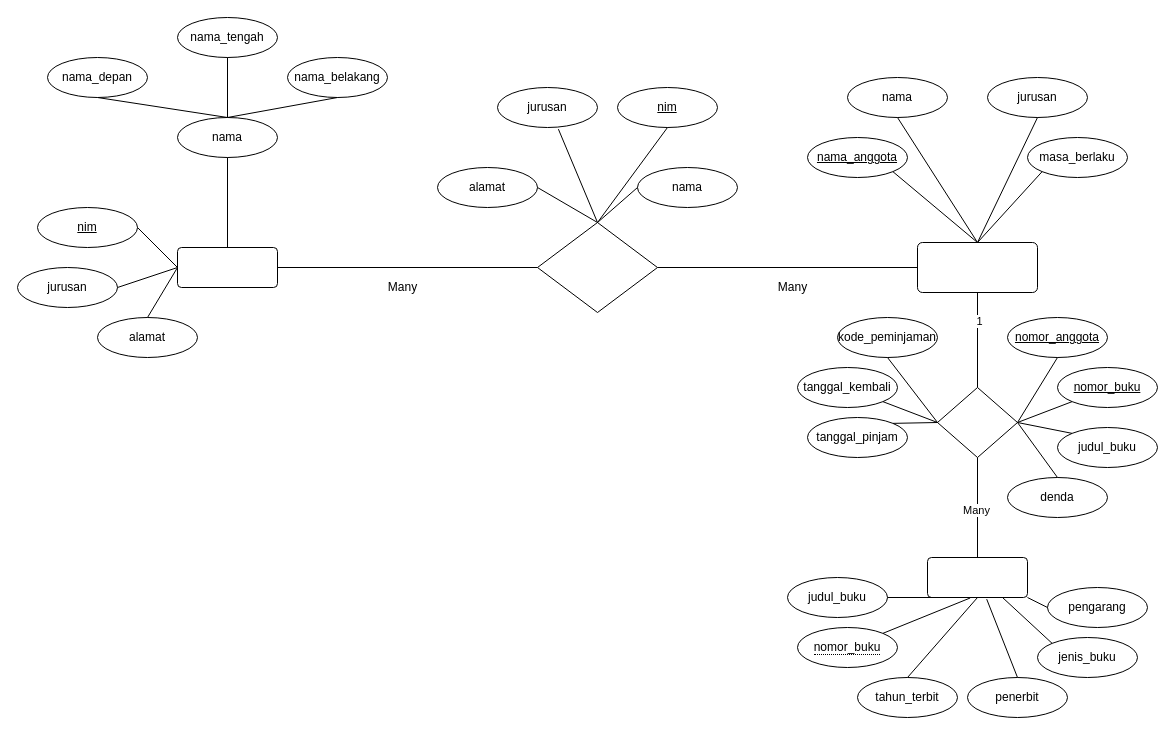
The diagram is 1175 pixels wide and 735 high, and some of its shapes have lost their labels. The shapes that lost their labels are listed below. From the top down, each one's centre as x and y in pixels, then its label:
the point at 227,267: Mahasiswa
the point at 597,267: mendaftar
the point at 977,267: Anggota Perpustakaan
the point at 977,422: Relationship
the point at 977,577: Buku
